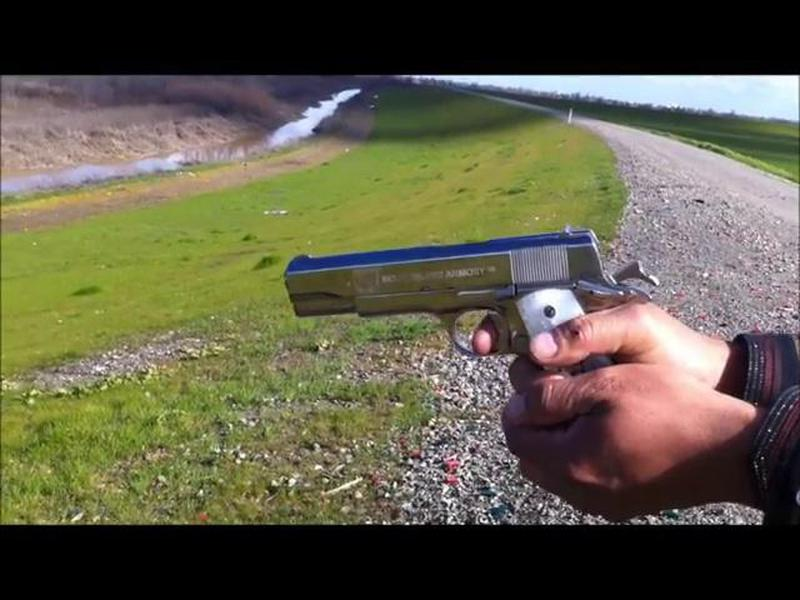Pistola: (247, 203, 688, 408)
